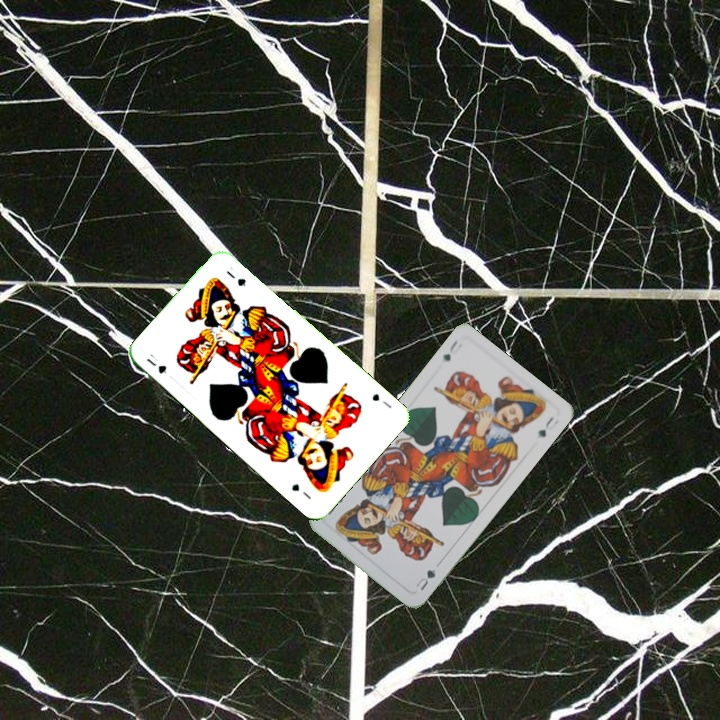GU: (412, 565, 439, 593), (142, 354, 169, 377), (439, 335, 460, 364), (368, 389, 394, 411)
